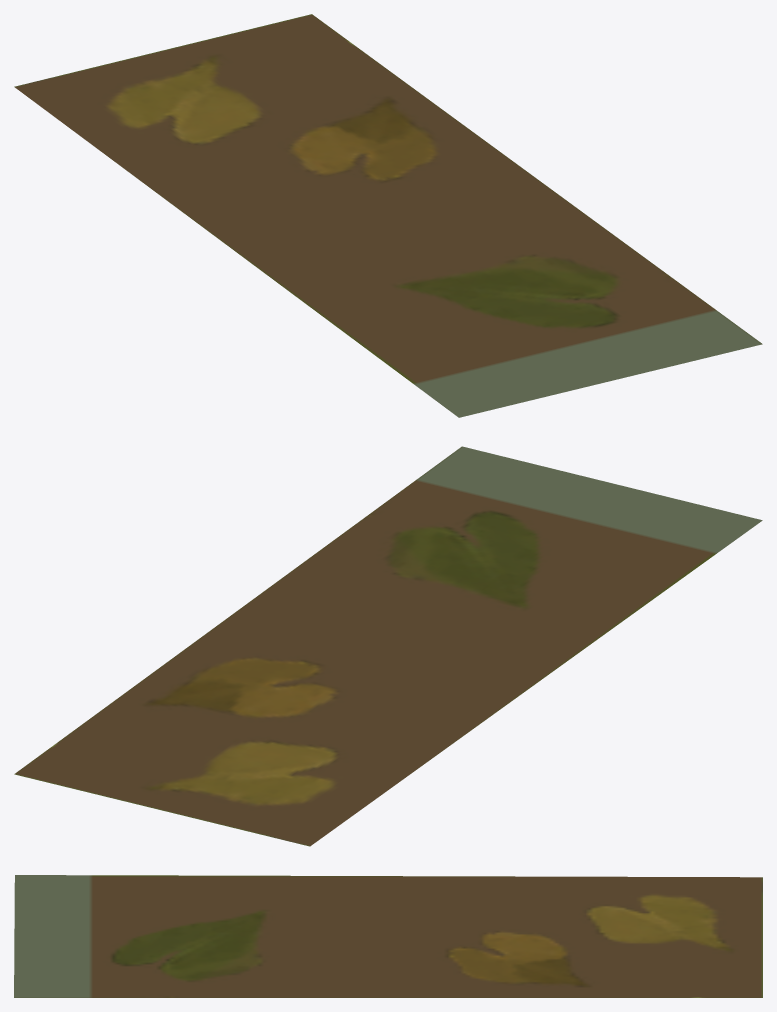
Rendered from zhucheng_ly02.FBX.
3 renders of one model, top to bottom at view 1: azimuth 30°, elevation 25°; view 2: azimuth 150°, elevation 25°; view 3: azimuth 270°, elevation 25°, orthographic. The views are drawn at different scales.
Visible parts, largest first — view 1: zhucheng_ly02; view 2: zhucheng_ly02; view 3: zhucheng_ly02.
Boxes of the visible parts, box(x1,y1,x2,y2) form: zhucheng_ly02: box(14, 14, 762, 417); zhucheng_ly02: box(14, 446, 762, 846); zhucheng_ly02: box(14, 875, 762, 997).
Bounding box in the file's own units: 2.75 × 7.09 × 0.
Materials: 1 (1 with a texture image).
